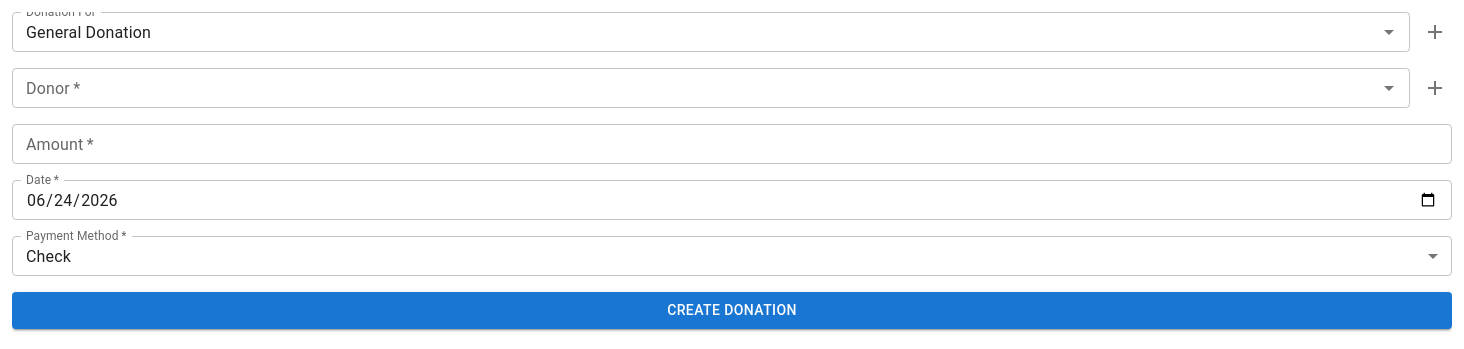
Test: DonationForm › hides mailinator emails in autocomplete options
# Type slowly to ensure debounce completes
Type "J" into the dropdown labelled "Donor *" at (694, 88), box [18, 74, 1371, 102]
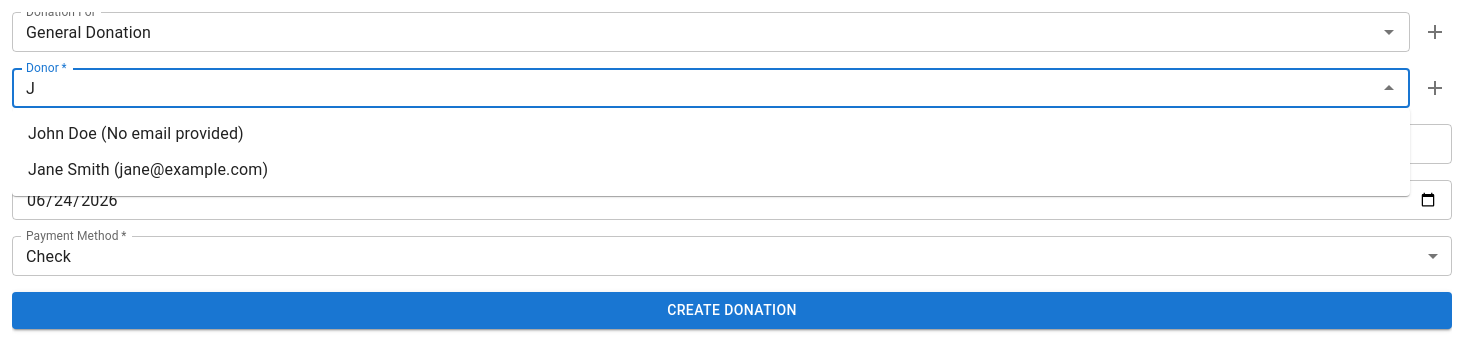
expect the list is shown: met, box [28, 124, 268, 179]
expect the option "John Doe (No email provided)" is shown: met, box [28, 124, 244, 143]
